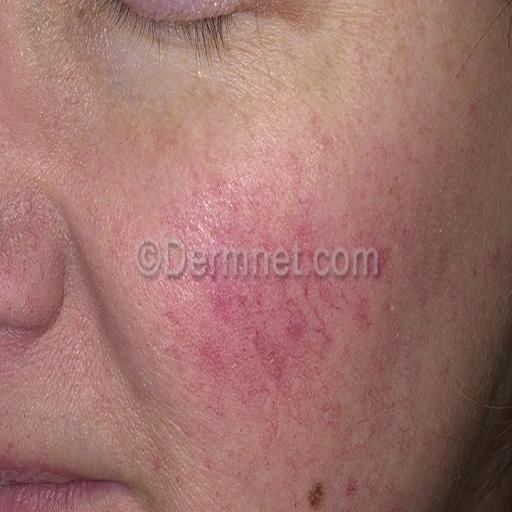Skin_Lesion: (178, 204, 286, 340), (338, 467, 365, 512), (298, 471, 327, 512), (264, 350, 290, 390), (106, 214, 127, 254), (365, 245, 390, 273), (354, 299, 372, 334), (396, 218, 412, 243), (302, 282, 313, 304)
